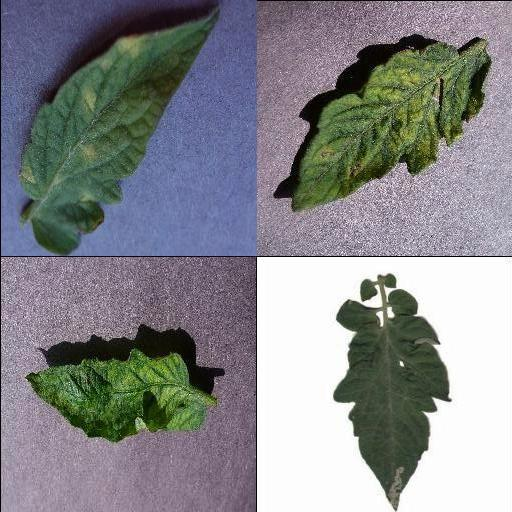Leaf Miner: (328, 313, 450, 512)
Leaf Mold: (19, 7, 221, 256)
Mosaic Virus: (290, 40, 494, 214), (24, 346, 204, 443)
